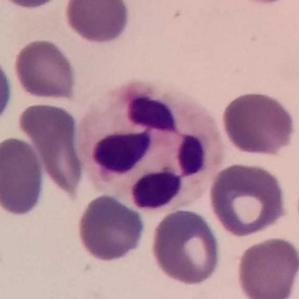Neutrophil: (72, 71, 226, 215)
RBC: (17, 101, 87, 197), (207, 160, 289, 238), (148, 206, 223, 287), (220, 89, 298, 158), (74, 192, 146, 264), (12, 37, 79, 101), (234, 234, 299, 299), (0, 134, 48, 219), (61, 0, 132, 46), (15, 101, 81, 147), (0, 52, 15, 132), (0, 0, 66, 11)
